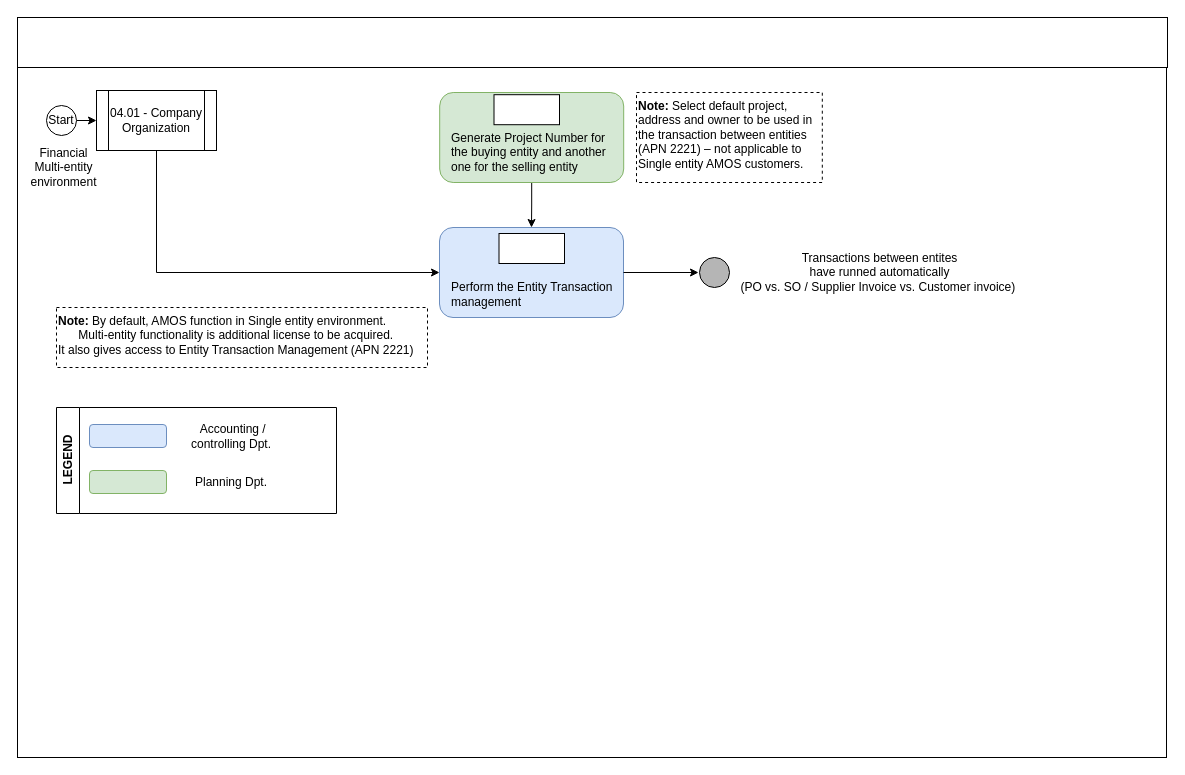
The diagram is 1185 pixels wide and 775 high, and some of its shapes have lost their labels. The shapes that lost their labels are listed below. From the top down, each one's box as (x1, y1, x2, y2) in pixels, then its label:
(16, 16, 1168, 68): 12.07a Financial Multi-Entity
(493, 94, 560, 125): Desktop APN306
(498, 232, 564, 264): Desktop APN2221
(698, 256, 730, 288): End
